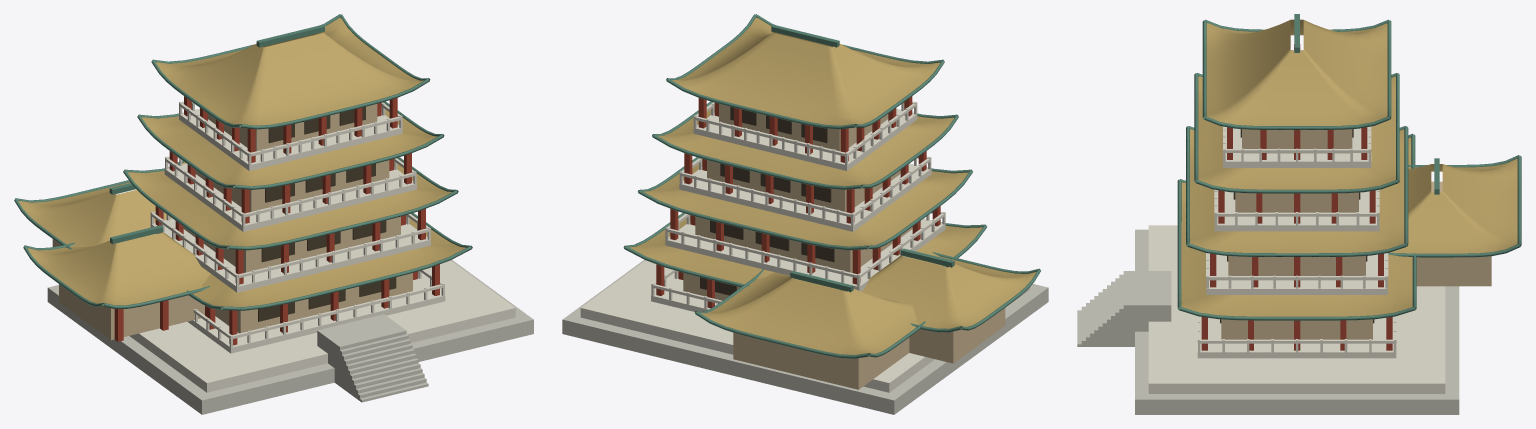
Rendered from nanjing_yuejiang.glb.
3 renders of one model, left to right at view 1: azimuth 30°, elevation 25°; view 2: azimuth 150°, elevation 25°; view 3: azimuth 270°, elevation 25°, orthographic. The views are drawn at different scales.
Visible parts, largest first — view 1: upturned tier 3, terrace, foundation, lower side wing, upturned tier 1, upturned tier 2, upturned tier 0, lower side wing.001, gallery floor.001, gallery floor, gallery floor.002, wing body (+26 smaller); view 2: upturned tier 3, lower side wing.001, foundation, lower side wing, upturned tier 1, terrace, upturned tier 2, wing body.001, upturned tier 0, gallery floor.002, gallery floor.001, gallery floor.003 (+20 smaller); view 3: terrace, upturned tier 3, foundation, lower side wing.001, upturned tier 1, upturned tier 0, upturned tier 2, gallery floor, gallery floor.001, gallery floor.002, story body, front stair.011 (+23 smaller).
Boxes of the visible parts, x1,y1,x2,y2 form: upturned tier 3: (155, 17, 423, 125); terrace: (129, 260, 515, 392); foundation: (47, 260, 533, 414); lower side wing: (27, 232, 210, 305); upturned tier 1: (127, 161, 451, 247); upturned tier 2: (141, 107, 437, 186); upturned tier 0: (193, 216, 466, 308); lower side wing.001: (18, 162, 186, 247); gallery floor.001: (150, 218, 430, 292); gallery floor: (187, 276, 445, 353); gallery floor.002: (164, 163, 416, 231); wing body: (59, 284, 204, 340); upturned tier 3: (672, 17, 940, 125); lower side wing.001: (701, 272, 917, 355); foundation: (562, 259, 1048, 414); lower side wing: (840, 255, 1036, 328); upturned tier 1: (644, 161, 968, 247); terrace: (580, 260, 1030, 392); upturned tier 2: (657, 107, 954, 186); wing body.001: (733, 332, 909, 389); upturned tier 0: (629, 216, 982, 290); gallery floor.002: (679, 163, 931, 231); gallery floor.001: (665, 218, 945, 291); gallery floor.003: (693, 108, 917, 170); terrace: (1148, 225, 1445, 393); upturned tier 3: (1204, 19, 1387, 125); foundation: (1135, 229, 1459, 414); lower side wing.001: (1392, 158, 1519, 253); upturned tier 1: (1188, 129, 1406, 253); upturned tier 0: (1181, 182, 1412, 316); upturned tier 2: (1196, 76, 1397, 189); gallery floor: (1197, 316, 1396, 358); gallery floor.001: (1206, 253, 1387, 294); gallery floor.002: (1214, 190, 1379, 231); story body: (1221, 319, 1372, 339); front stair.011: (1123, 271, 1171, 345).
Size of the model in its own units: 8.21 by 5.89 by 7.93.
